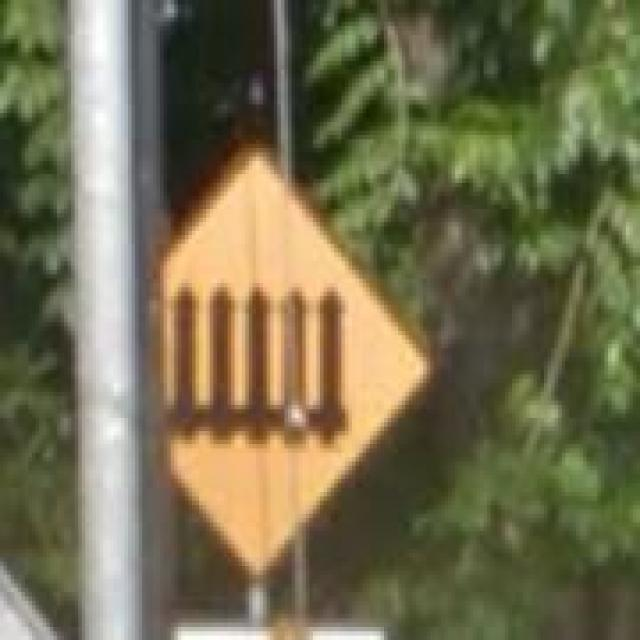traffic sign: (167, 153, 420, 558)
